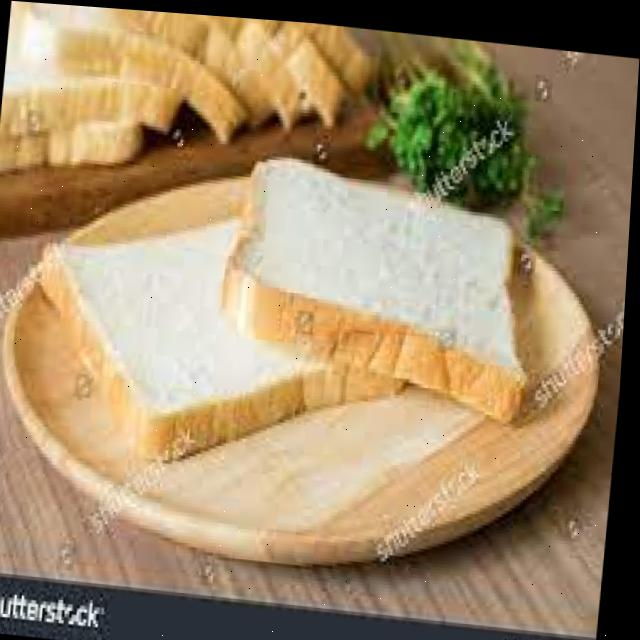Bread: (46, 212, 332, 457), (257, 156, 528, 406)
